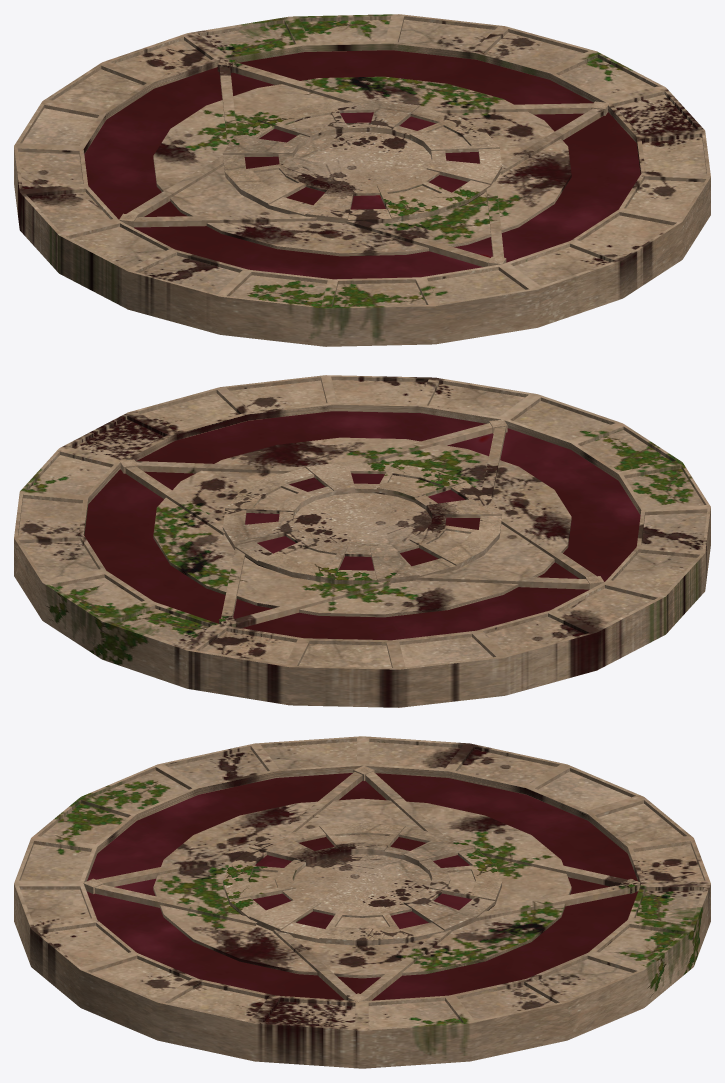
Rendered from platform2.glb.
3 renders of one model, top to bottom at view 1: azimuth 30°, elevation 25°; view 2: azimuth 150°, elevation 25°; view 3: azimuth 270°, elevation 25°, orthographic.
Visible parts, largest first — view 1: pCube5 (×2); view 2: pCube5 (×2); view 3: pCube5 (×2).
Boxes of the visible parts, left/top/right/bottom form: pCube5 (×2): left=14, top=14, right=710, bottom=346; pCube5 (×2): left=14, top=375, right=710, bottom=707; pCube5 (×2): left=14, top=736, right=710, bottom=1068.
Bounding box in the file's own units: 2 × 0.1367 × 2.
Materials: 2 (2 with a texture image).
